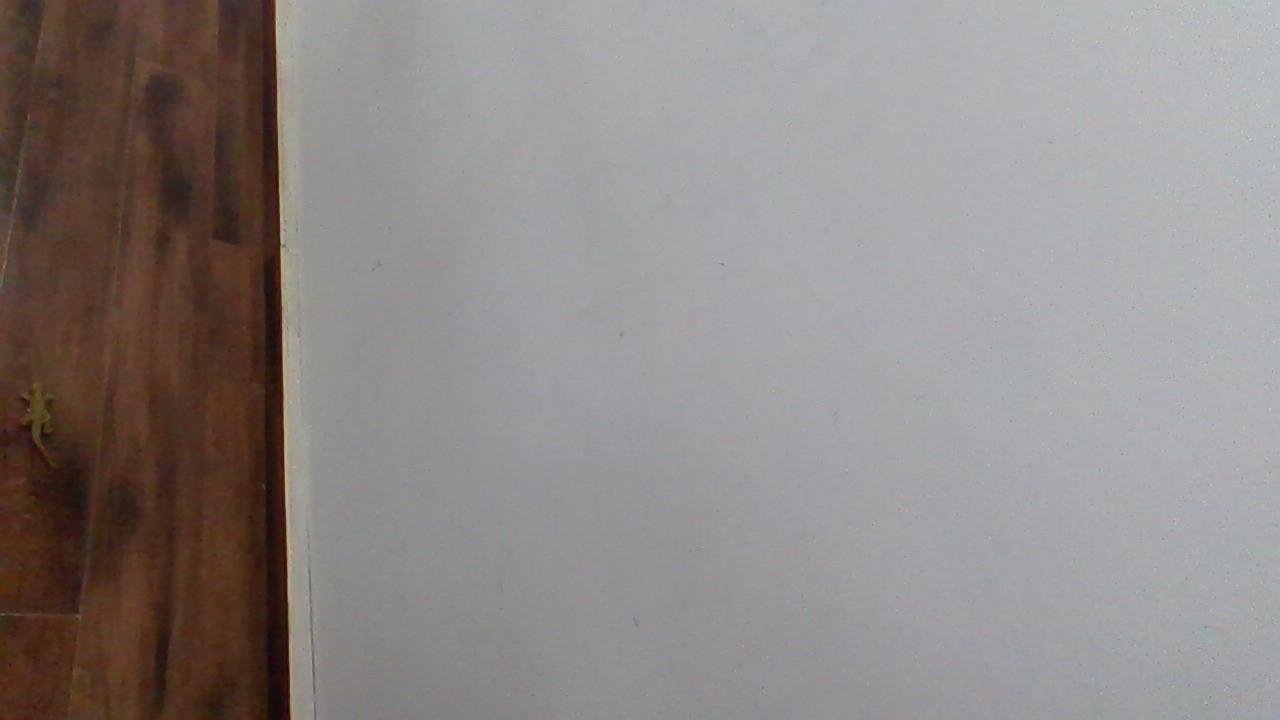lizard: (10, 362, 65, 473)
